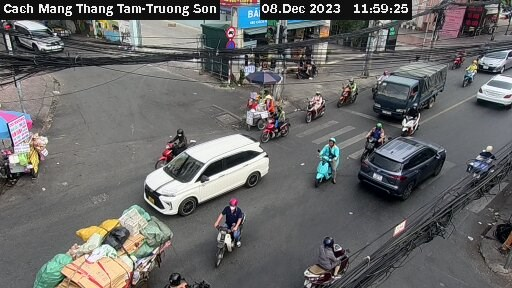car: (128, 133, 285, 209), (363, 132, 441, 194), (473, 66, 512, 109), (479, 39, 512, 70)
motorbike: (294, 233, 354, 285), (205, 198, 249, 265), (306, 140, 354, 191), (457, 139, 506, 183), (353, 118, 392, 156), (257, 107, 298, 143), (298, 88, 339, 121), (152, 124, 192, 157), (390, 106, 431, 134), (329, 76, 369, 104), (455, 62, 482, 87)
truck: (367, 63, 451, 114)
